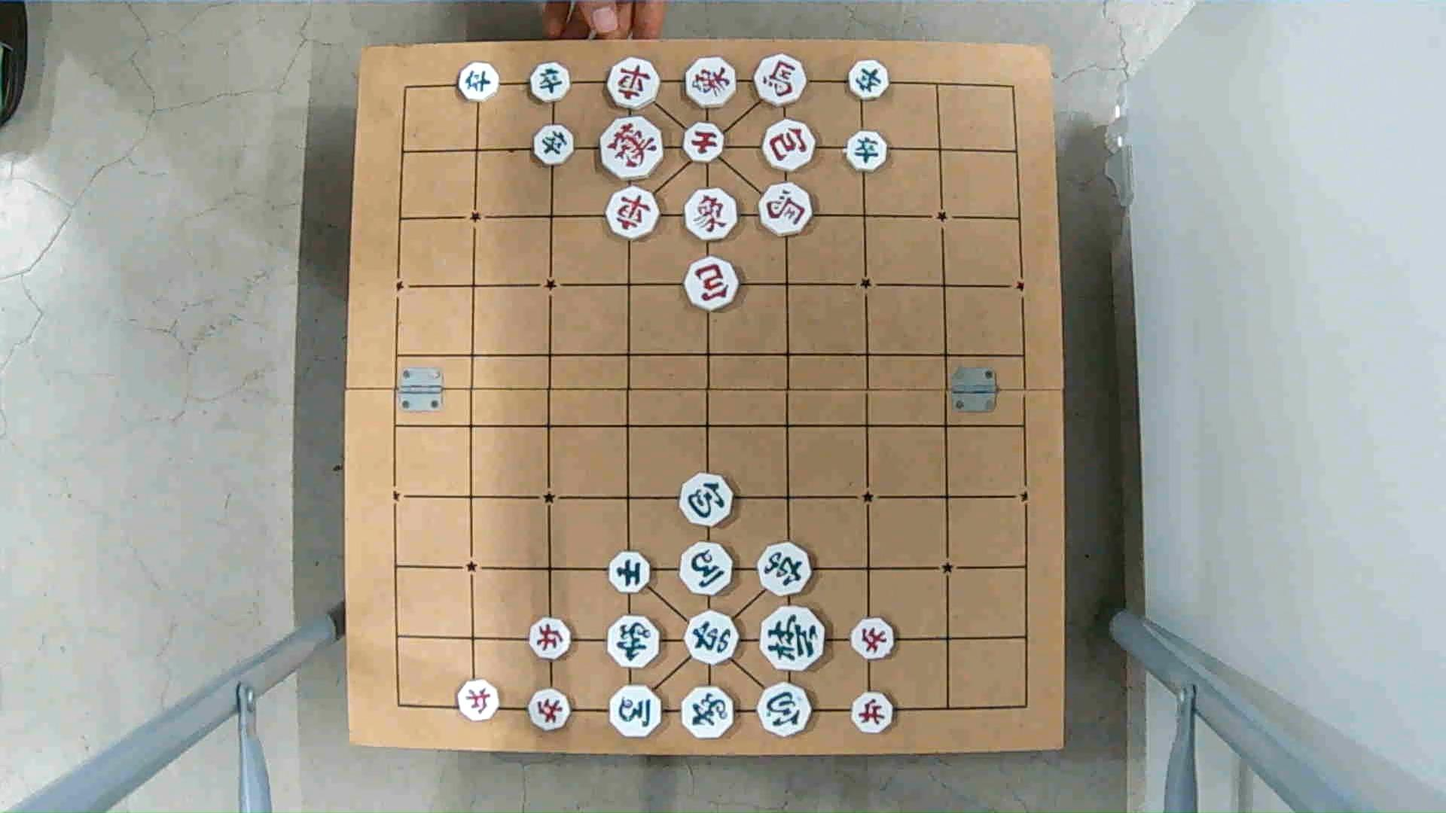cha_green: (756, 539, 813, 595), (683, 613, 740, 662)
cha_red: (607, 56, 660, 110), (608, 188, 664, 235)
jol_green: (532, 123, 575, 166), (457, 61, 499, 103), (847, 132, 891, 170), (530, 65, 573, 102), (848, 60, 891, 97)
jol_red: (850, 619, 898, 657), (527, 617, 573, 656), (529, 688, 570, 730), (854, 687, 894, 730), (461, 678, 506, 716)
ma_green: (679, 542, 739, 595), (609, 687, 667, 738)
ma_red: (761, 187, 817, 236), (753, 59, 808, 105)
po_green: (682, 475, 738, 525), (757, 686, 813, 735)
po_red: (687, 259, 743, 309), (763, 122, 817, 169)
sa_green: (609, 553, 653, 593)
sa_red: (682, 123, 727, 161)
sang_green: (605, 612, 664, 671), (682, 687, 735, 744)
sang_red: (685, 187, 740, 242), (684, 60, 740, 108)
wang_green: (760, 603, 825, 672)
wang_red: (599, 120, 664, 178)
